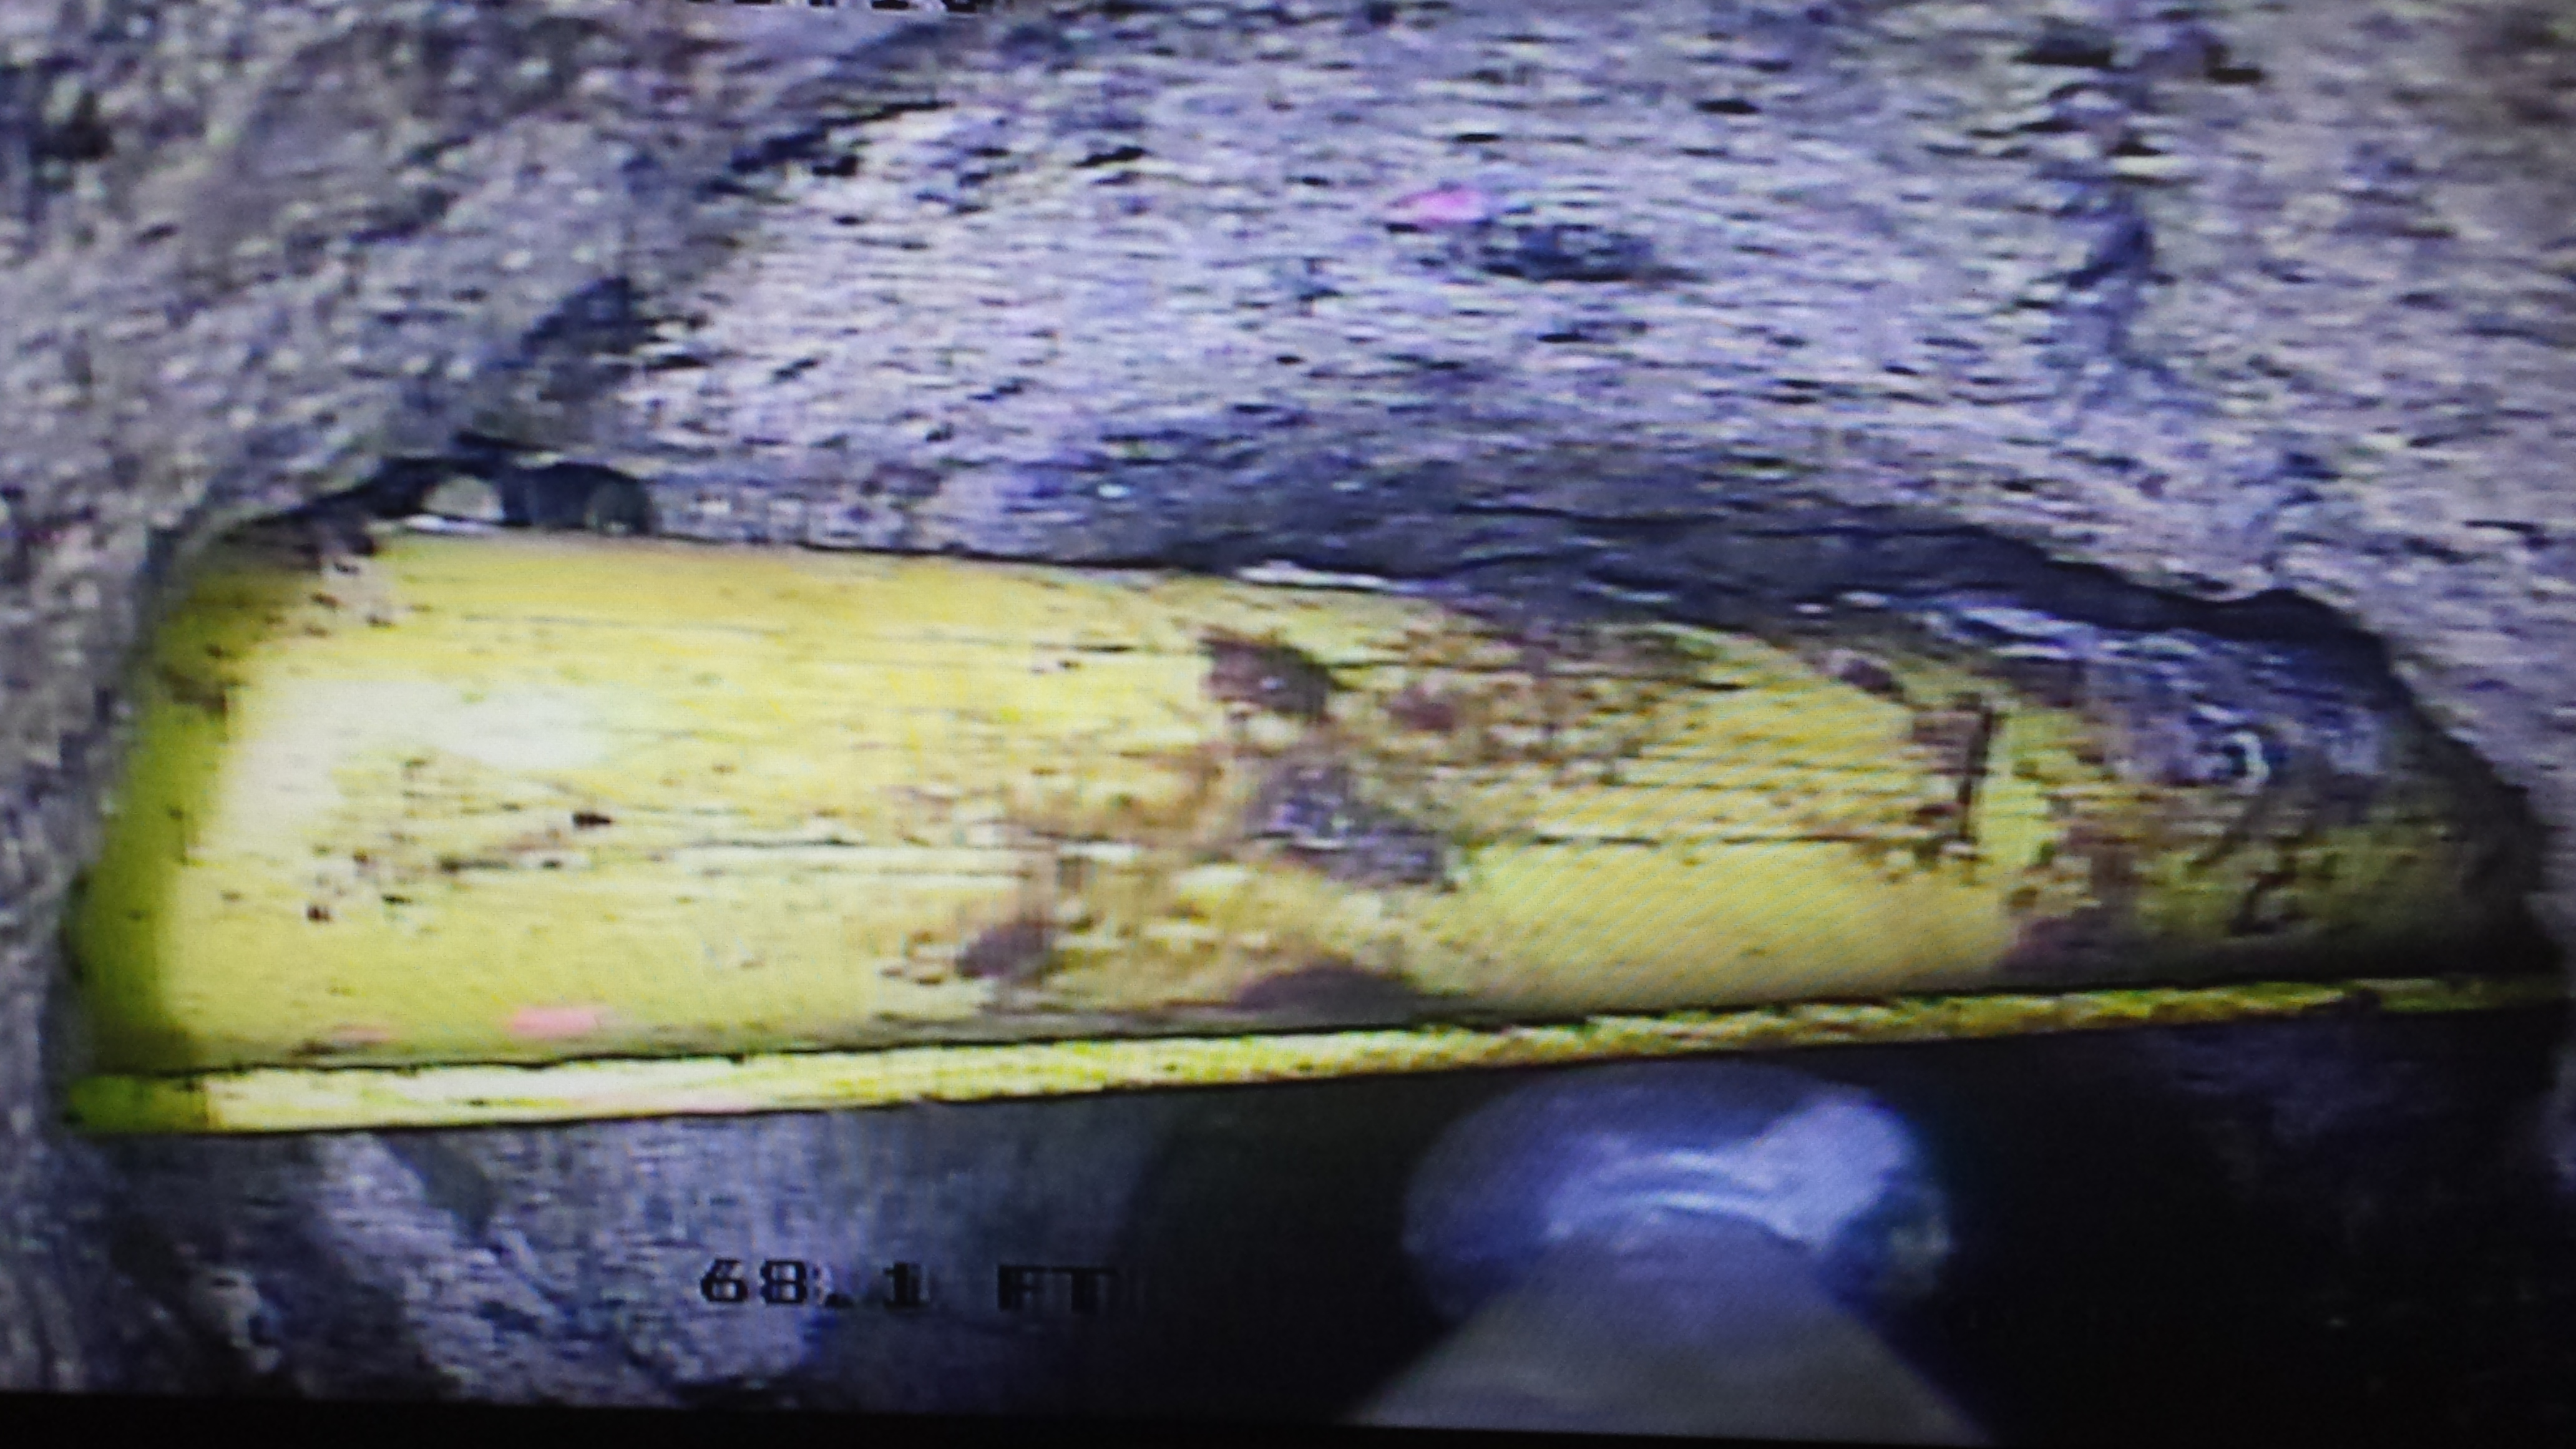cb: (35, 444, 2541, 1118)
